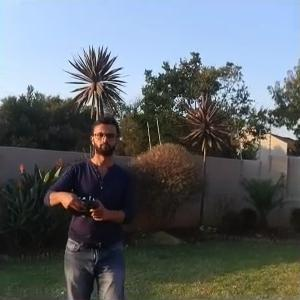follow: (40, 110, 142, 299)
